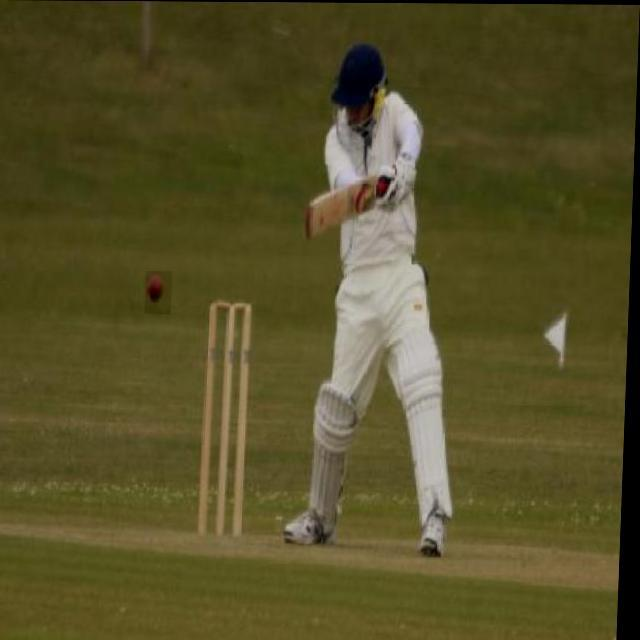-: (147, 271, 174, 314)
